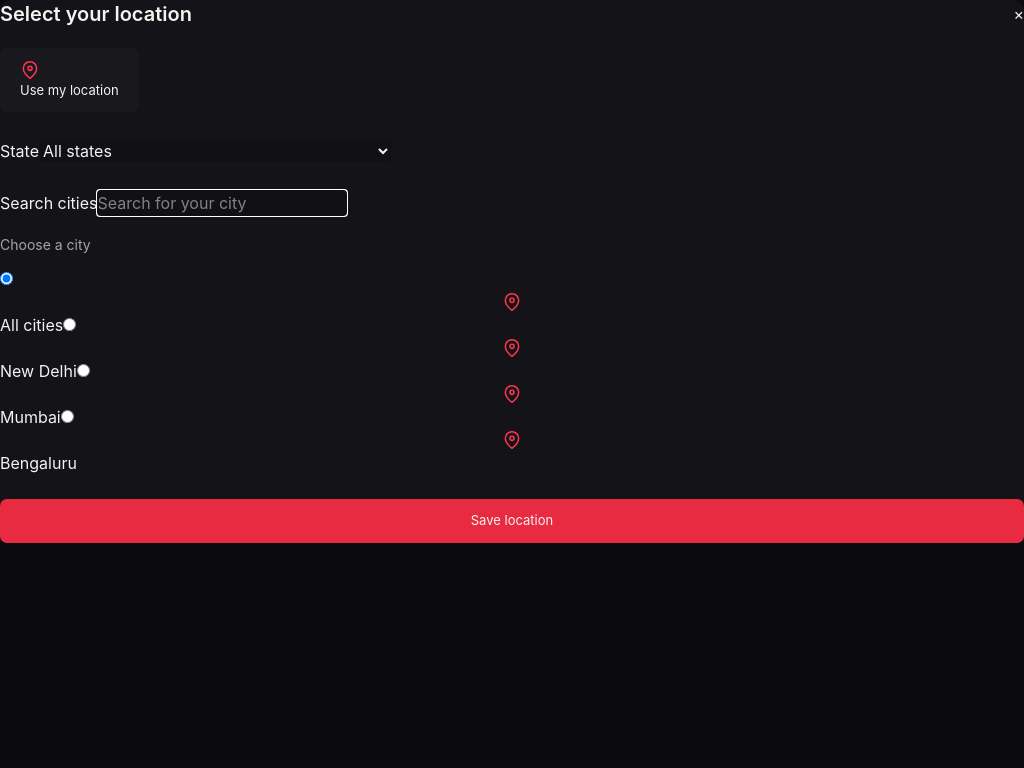
Test: keeps manual selection when browser coordinates are too imprecise to choose a nearby city
Expected: the radio button labelled "Mumbai" is shown, [77, 364, 90, 376]
Click the button "Use my location" at (69, 80), box [0, 48, 139, 112]
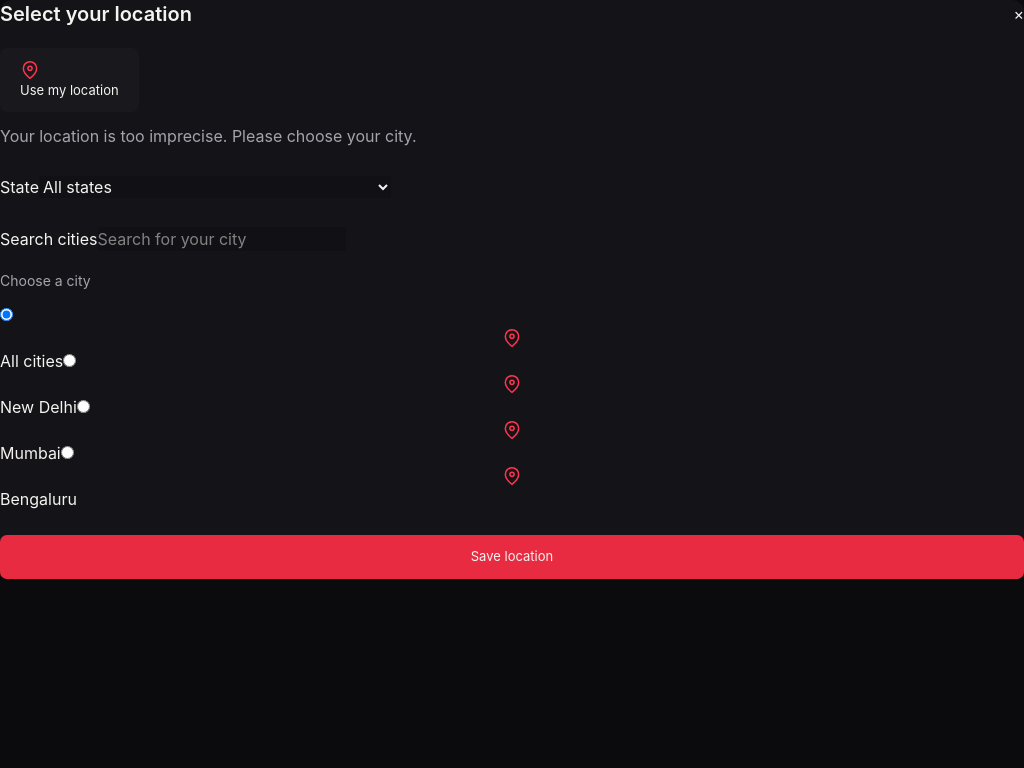
Expected: the radio button labelled "All cities" is checked, [0, 308, 13, 320]
Now the message reads "Your location is too imprecise. Please choose your city.", box [0, 126, 416, 146]
